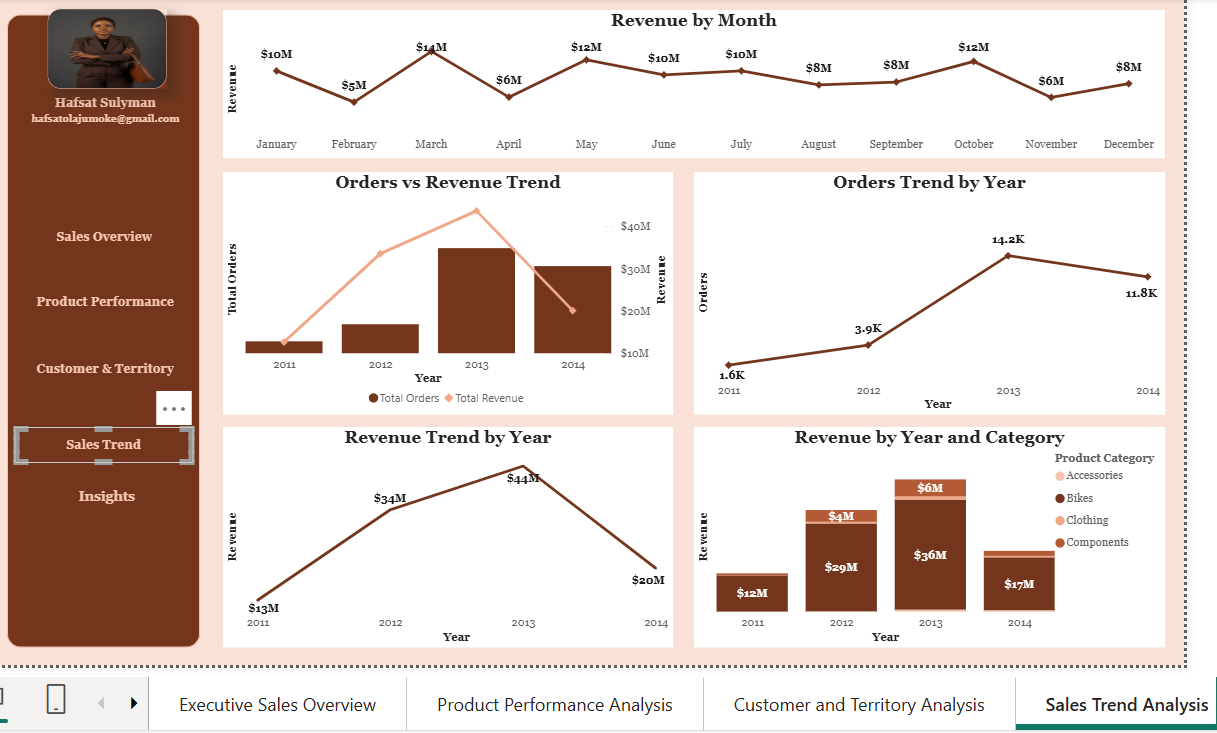

What the dashboard file says about the page in this screenshot:
{"tool":"powerbi","page":{"name":"Sales Trend Analysis","canvas":[1280,720],"ordinal":3},"visuals":[{"type":"lineChart","title":"Orders Trend by Year","fields":{"Category":["Sales SalesOrderHeader.OrderDate.Variation.Date Hierarchy.Year"],"Y":["Count(Sales SalesOrderHeader.SalesOrderID)"]},"box":[751.3,187.8,508.4,262.3],"z":0},{"type":"lineChart","title":"Revenue Trend by Year","fields":{"Category":["Sales SalesOrderHeader.OrderDate.Variation.Date Hierarchy.Year"],"Y":["Sales SalesOrderDetail.Total Revenue"]},"box":[242.9,463.1,485.8,238],"z":1000},{"type":"lineChart","title":"Revenue by Month","fields":{"Category":["Sales SalesOrderHeader.OrderDate.Variation.Date Hierarchy.Month"],"Y":["Sales SalesOrderDetail.Total Revenue"]},"box":[242.9,13,1016.9,160.3],"z":2000},{"type":"columnChart","title":"Revenue by Year and Category","fields":{"Category":["Sales SalesOrderHeader.OrderDate.Variation.Date Hierarchy.Year"],"Series":["Production ProductCategory.Name"],"Y":["Sales SalesOrderDetail.Total Revenue"]},"box":[751.3,463.1,508.4,238],"z":3000},{"type":"lineClusteredColumnComboChart","title":"Orders vs Revenue Trend","fields":{"Category":["Sales SalesOrderHeader.OrderDate.Variation.Date Hierarchy.Year"],"Y":["Sales SalesOrderHeader.Total Orders"],"Y2":["Sales SalesOrderDetail.Total Revenue"]},"box":[242.9,187.8,485.8,262.3],"z":4000},{"type":"shape","box":[10,18.3,208.3,683.3],"z":4001},{"type":"textbox","box":[48.3,96.7,135,31.7],"z":4002},{"type":"image","box":[53.3,11.7,128.3,86.7],"z":4003},{"type":"textbox","box":[30,113.3,176.7,28.3],"z":4004},{"type":"actionButton","box":[19.4,307.7,192.7,40.5],"z":4005},{"type":"actionButton","box":[19.4,380.5,192.7,40.5],"z":4006},{"type":"actionButton","box":[17.8,463.1,192.7,38.9],"z":4007},{"type":"actionButton","box":[17.8,238,194.3,38.9],"z":4008}]}

Visuals, with their boxes on the page's 1280x720 design canvas (x1, y1, x2, y2). These are canvas units, not pixel positions in the 1217x733 screenshot, which may show the page scaled, cropped or inside an application window:
"Orders Trend by Year" lineChart: select_region(751, 188, 1260, 450)
"Revenue Trend by Year" lineChart: select_region(243, 463, 729, 701)
"Revenue by Month" lineChart: select_region(243, 13, 1260, 173)
"Revenue by Year and Category" columnChart: select_region(751, 463, 1260, 701)
"Orders vs Revenue Trend" lineClusteredColumnComboChart: select_region(243, 188, 729, 450)
shape: select_region(10, 18, 218, 702)
textbox: select_region(48, 97, 183, 128)
image: select_region(53, 12, 182, 98)
textbox: select_region(30, 113, 207, 142)
actionButton: select_region(19, 308, 212, 348)
actionButton: select_region(19, 380, 212, 421)
actionButton: select_region(18, 463, 210, 502)
actionButton: select_region(18, 238, 212, 277)
